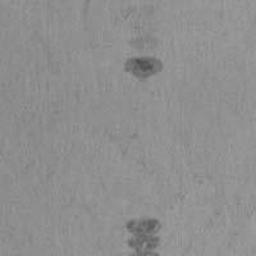Oil spot: (122, 5, 165, 84), (123, 215, 163, 256)
